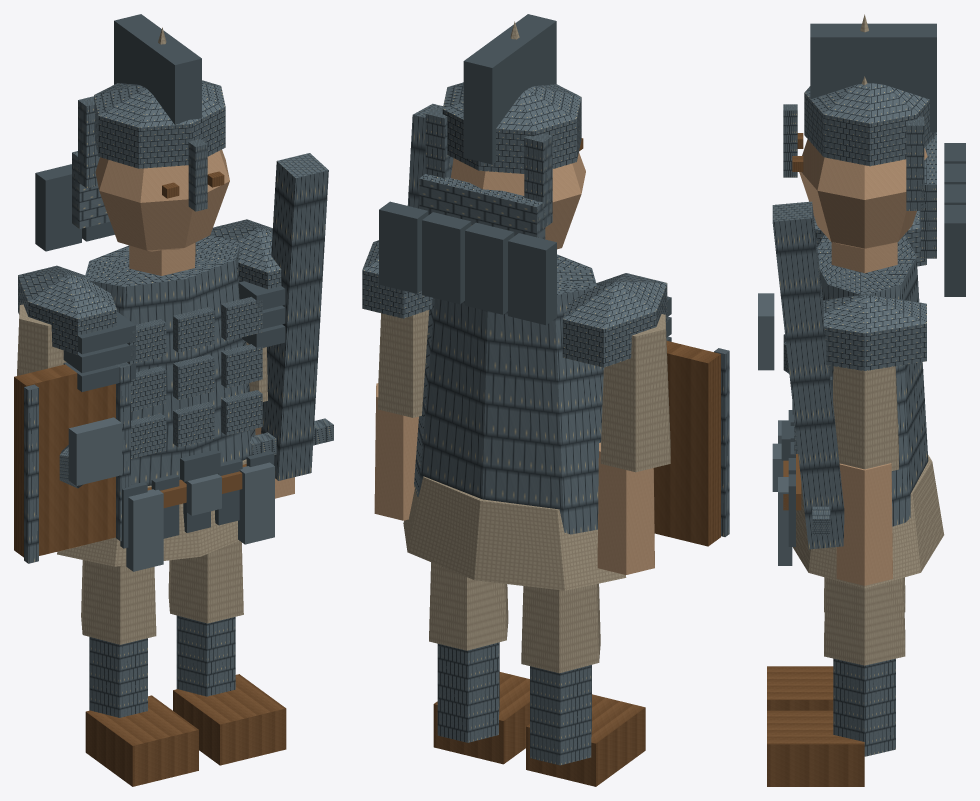
File: unit-SWORD-lod0.glb
The picture shows the model from 3 angles, left to right: view 1: azimuth 30°, elevation 25°; view 2: azimuth 150°, elevation 25°; view 3: azimuth 270°, elevation 25°; orthographic projection. The views are drawn at different scales.
Size of the model in its own units: 0.209 by 0.448 by 0.115.
1 material, 1 textured.
